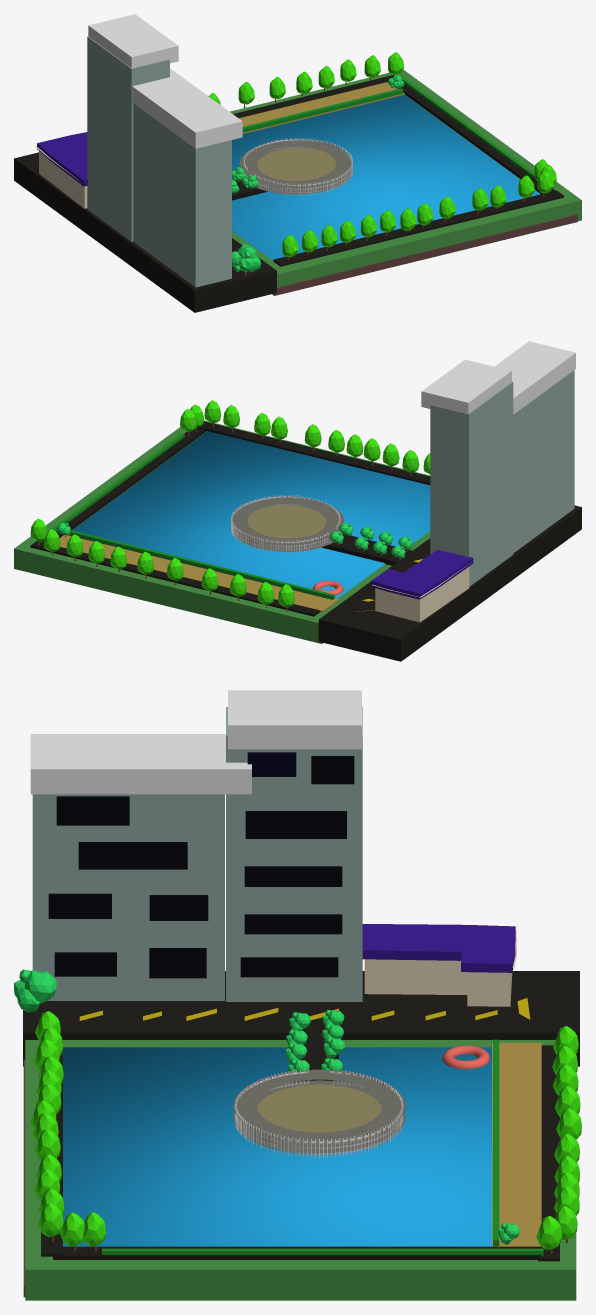
Rendered from ben02.glb.
3 views of the same model, one above another, from view 1: azimuth 30°, elevation 25°; view 2: azimuth 150°, elevation 25°; view 3: azimuth 270°, elevation 25° (orthographic). The views are drawn at different scales.
Visible parts, largest first — view 1: ลูกบาศก์.039, ลูกบาศก์.045, ลูกบาศก์.046, ลูกบาศก์.038, ลูกบาศก์.041, ลูกบาศก์.033, ลูกบาศก์.071, Cylinder.014, ลูกบาศก์.037, ลูกบาศก์.044, Cylinder.015, ลูกบาศก์.072 (+8 smaller); view 2: ลูกบาศก์.039, ลูกบาศก์.046, ลูกบาศก์.038, ลูกบาศก์.041, ลูกบาศก์.045, ลูกบาศก์.033, ลูกบาศก์.071, Cylinder.014, Cube.030, Cube.029, ลูกบาศก์.044, ลูกบาศก์.072 (+8 smaller); view 3: ลูกบาศก์.039, ลูกบาศก์.038, ลูกบาศก์.045, ลูกบาศก์.046, ลูกบาศก์.041, ลูกบาศก์.033, ลูกบาศก์.072, ลูกบาศก์.071, Cylinder.014, Cube.030, Cube.029, Cylinder.015 (+22 smaller).
Boxes of the visible parts, x1,y1,x2,y2 form: ลูกบาศก์.039: (232,94,540,260); ลูกบาศก์.045: (133,103,231,287); ลูกบาศก์.046: (87,36,169,241); ลูกบาศก์.038: (230,69,581,287); ลูกบาศก์.041: (14,152,276,312); ลูกบาศก์.033: (132,68,242,148); ลูกบาศก์.071: (88,14,178,68); Cylinder.014: (239,140,351,194); ลูกบาศก์.037: (272,214,577,295); ลูกบาศก์.044: (273,190,563,266); Cylinder.015: (257,148,335,180); ลูกบาศก์.072: (239,82,404,133); ลูกบาศก์.039: (72,431,430,598); ลูกบาศก์.046: (430,381,513,586); ลูกบาศก์.038: (14,420,430,643); ลูกบาศก์.041: (318,505,581,661); ลูกบาศก์.045: (513,370,574,552); ลูกบาศก์.033: (495,341,575,414); ลูกบาศก์.071: (421,359,511,413); Cylinder.014: (232,497,344,551); Cube.030: (371,549,473,598); Cube.029: (372,562,471,622); ลูกบาศก์.044: (197,421,430,485); ลูกบาศก์.072: (59,535,338,612); ลูกบาศก์.039: (63,1047,491,1246); ลูกบาศก์.038: (25,1040,576,1300); ลูกบาศก์.045: (32,794,224,1000); ลูกบาศก์.046: (226,707,362,1001); ลูกบาศก์.041: (23,971,579,1066); ลูกบาศก์.033: (30,734,251,794); ลูกบาศก์.072: (492,1042,541,1246); ลูกบาศก์.071: (228,690,361,742); Cylinder.014: (233,1069,405,1153); Cube.030: (362,924,515,971); Cube.029: (364,930,516,1006); Cylinder.015: (257,1084,381,1132).
Size of the model in its own units: 17.37 by 8.91 by 14.26.
